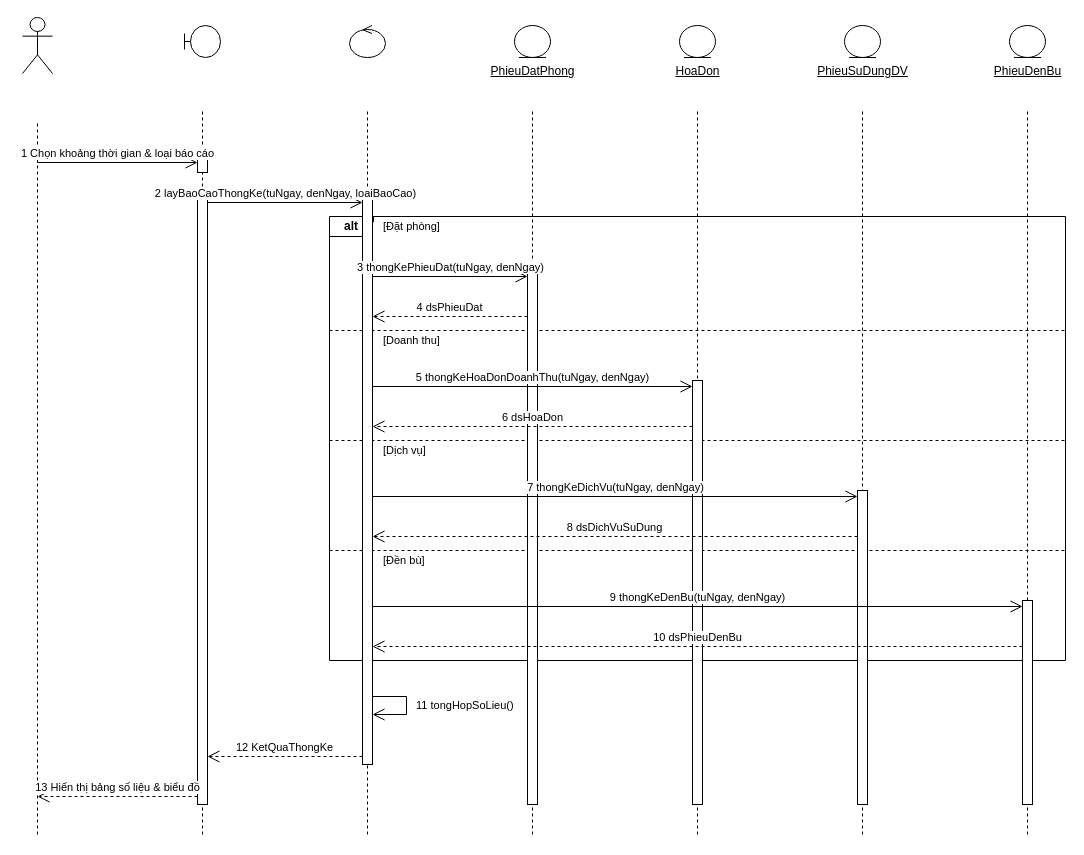
Some shapes in this 1084 by 855 pixel diagram are drawn without their labels. The centre of each missing label's shape, as x and y in pixels:
"FrmThongKe" belongs at (x=202, y=41).
"Quản lý" belongs at (x=37, y=45).
"ThongKeService" belongs at (x=367, y=41).
